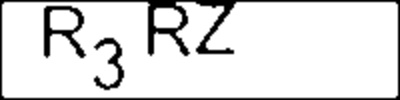3: (89, 34, 128, 92)
R: (140, 1, 193, 61), (41, 3, 88, 60)
Z: (193, 1, 243, 59)
